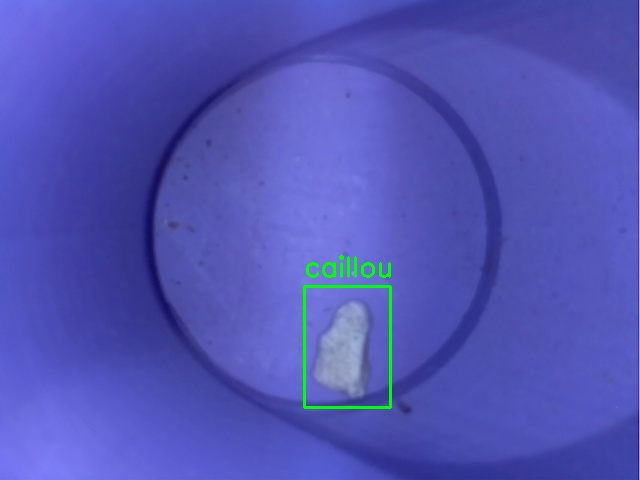caillou: (304, 286, 390, 407)
